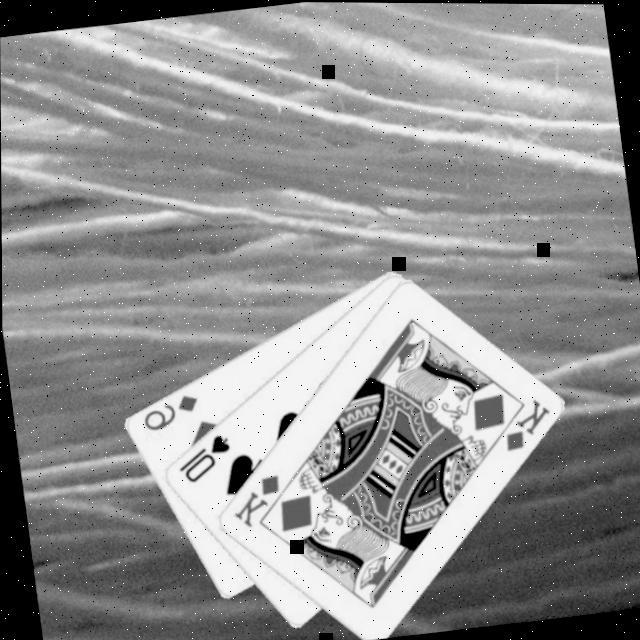10S: (170, 430, 237, 488)
9D: (137, 390, 203, 436)
KD: (225, 471, 287, 533), (496, 395, 556, 455)
